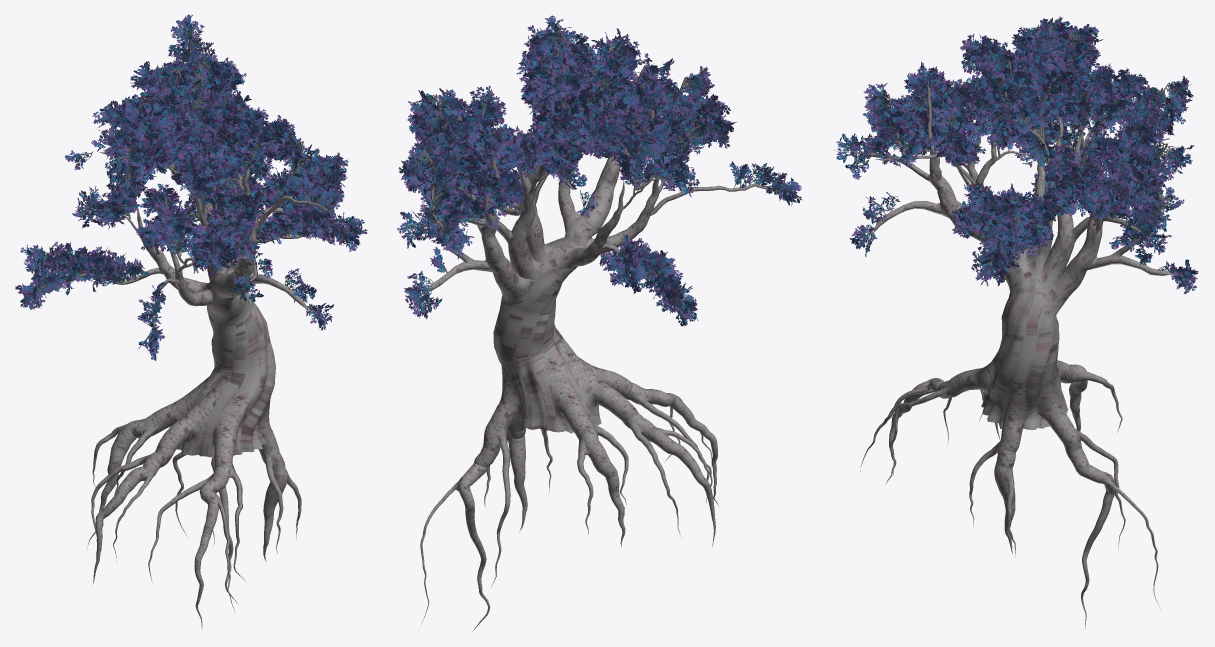
The picture shows the model from 3 angles, left to right: view 1: azimuth 30°, elevation 25°; view 2: azimuth 150°, elevation 25°; view 3: azimuth 270°, elevation 25°; orthographic projection. The views are drawn at different scales.
Visible parts, largest first — view 1: SM_Hero_Tree_03_LOD0; view 2: SM_Hero_Tree_03_LOD0; view 3: SM_Hero_Tree_03_LOD0.
Part boxes in pixels (x1,y1,x2,y2): SM_Hero_Tree_03_LOD0: (15,14,367,629); SM_Hero_Tree_03_LOD0: (397,15,801,631); SM_Hero_Tree_03_LOD0: (834,16,1198,628).
Size of the model in its own units: 17.45 by 32.34 by 18.56.
2 materials, 2 textured.
